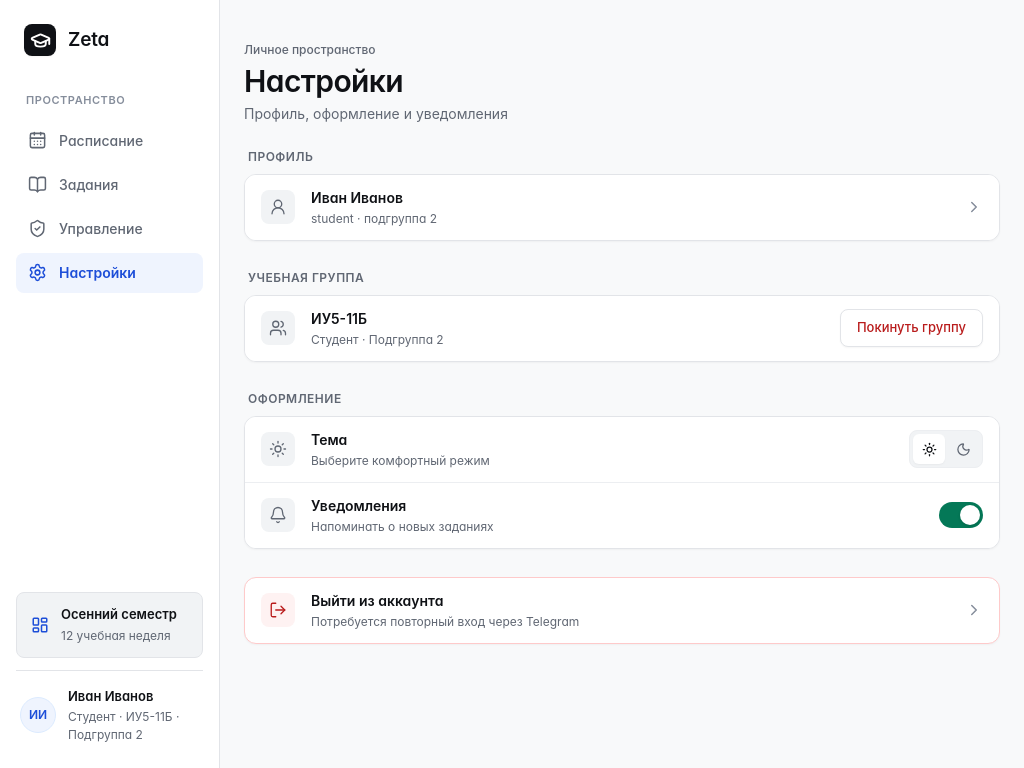
Test: SettingsPage - Group Settings › opens confirmation modal and can cancel leaving the group
This screenshot has width=1024, height=768.
Later steps or results of the test are not shown.
Click the button "Покинуть группу" at (911,328), box [840,309,983,347]
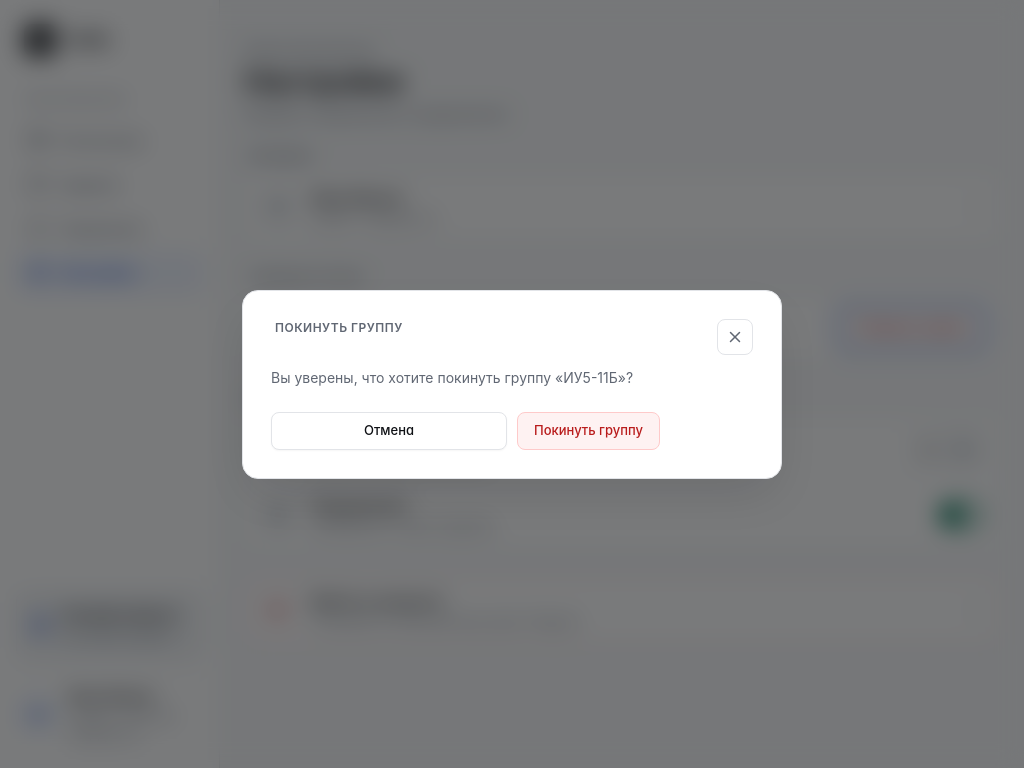
Check: the dialog "Покинуть группу" is shown
Check: the text "Вы уверены, что хотите покинуть группу «ИУ5-11Б»?" is shown, box [271,368,633,386]
